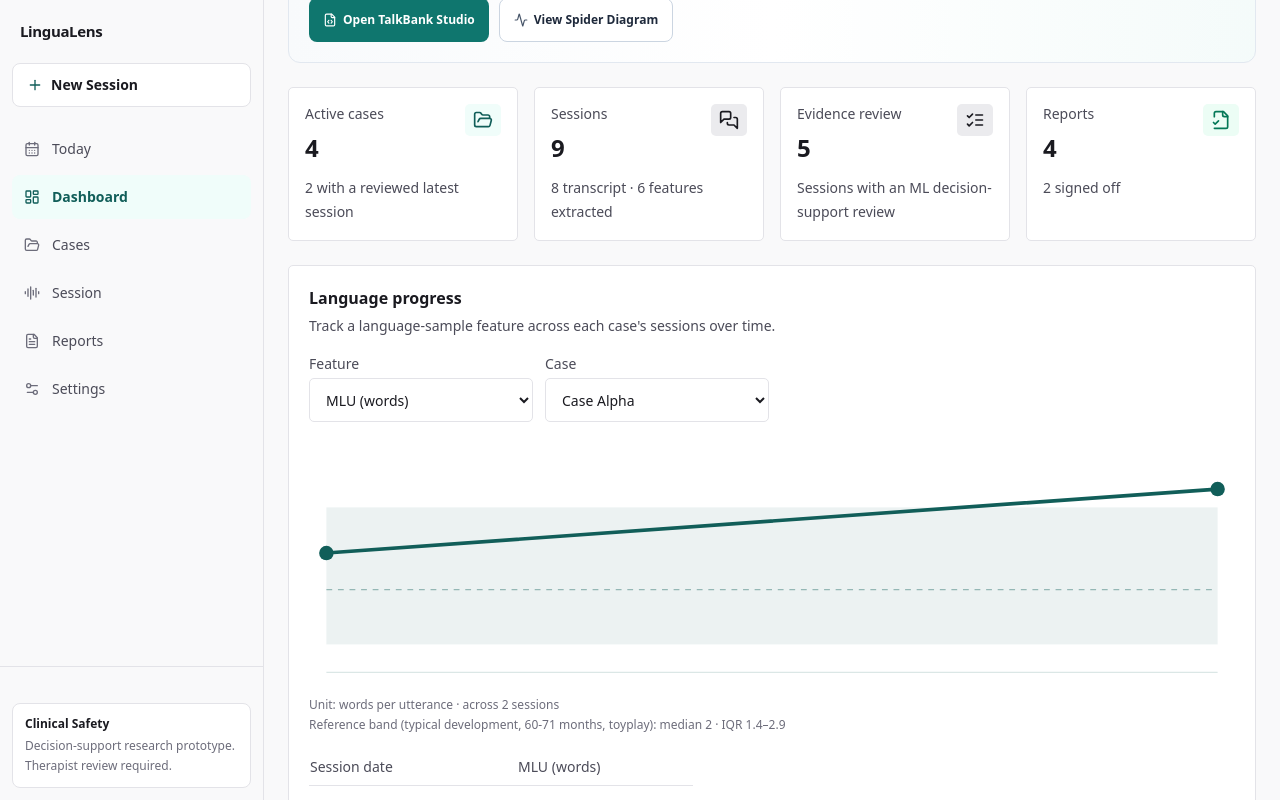
Test: practice dashboard › plots session-level feature trends with case and feature selection
This screenshot has width=1280, height=800.
(page scrolled)
# Switching the feature re-plots the values for the same case.
Select "NDW (different words)" in the dropdown labelled "Feature". click: (421, 400)
box: top-left (309, 378), bottom-right (533, 422)
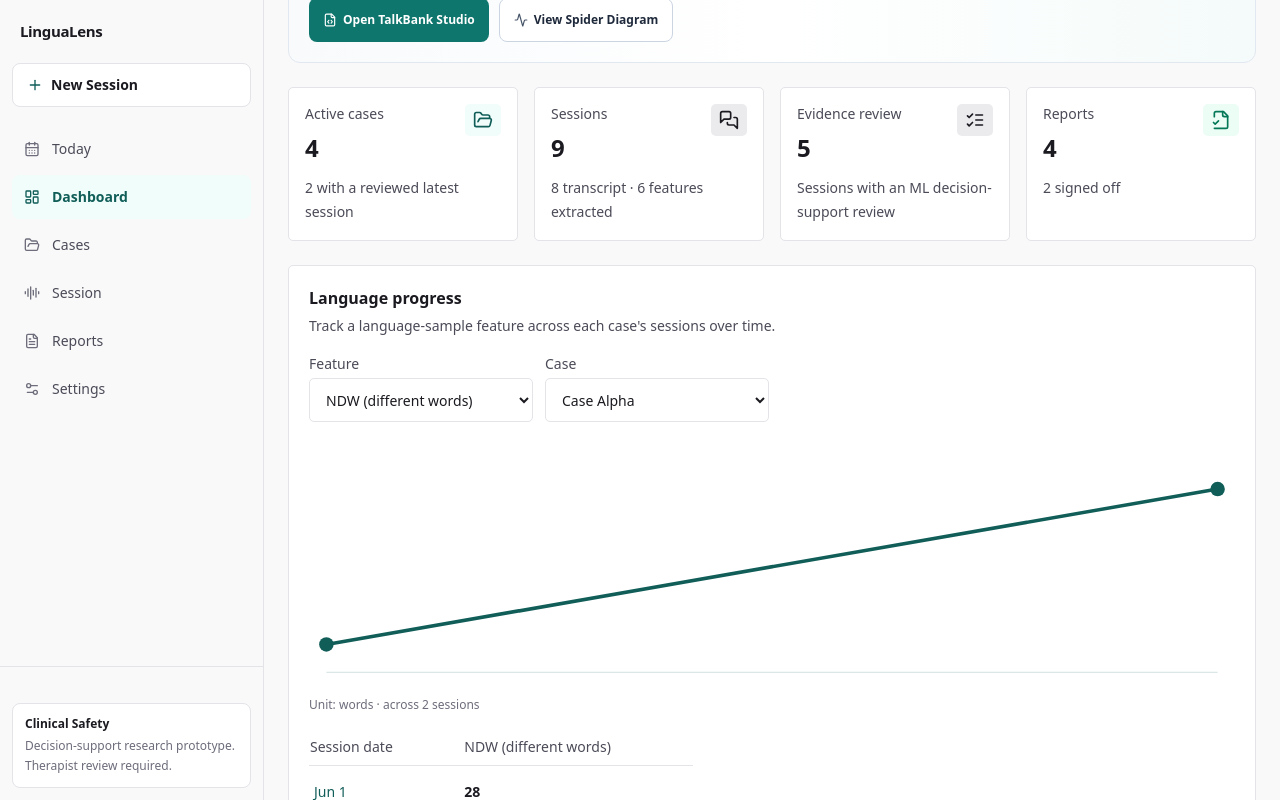
Expected: the text "28" is shown, top-left (463, 766), bottom-right (693, 799)
# Switching the case shows its series (a single point keeps the hint).
Select "MLU (words)" in the dropdown labelled "Feature". click: (421, 400)
box: top-left (309, 378), bottom-right (533, 422)
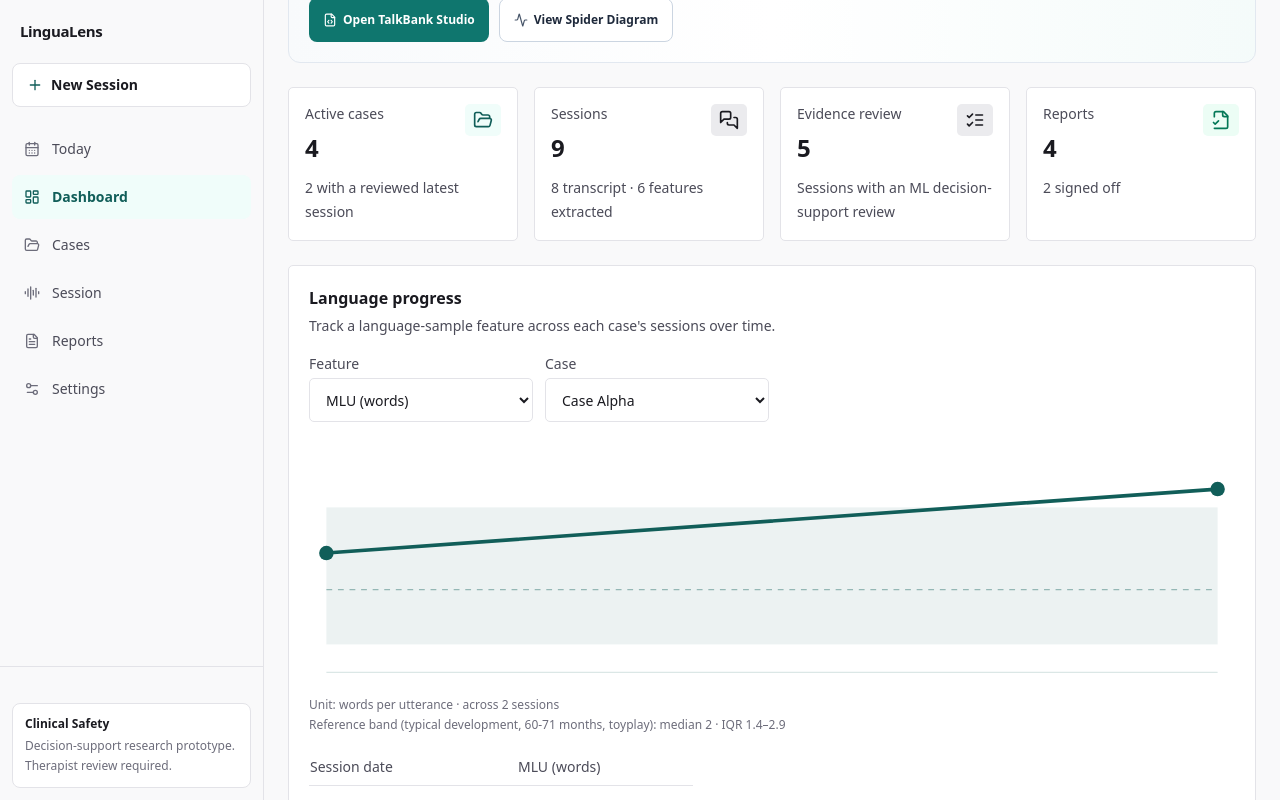
Select "Case Beta" in the dropdown labelled "Case". click: (657, 400)
box: top-left (545, 378), bottom-right (769, 422)
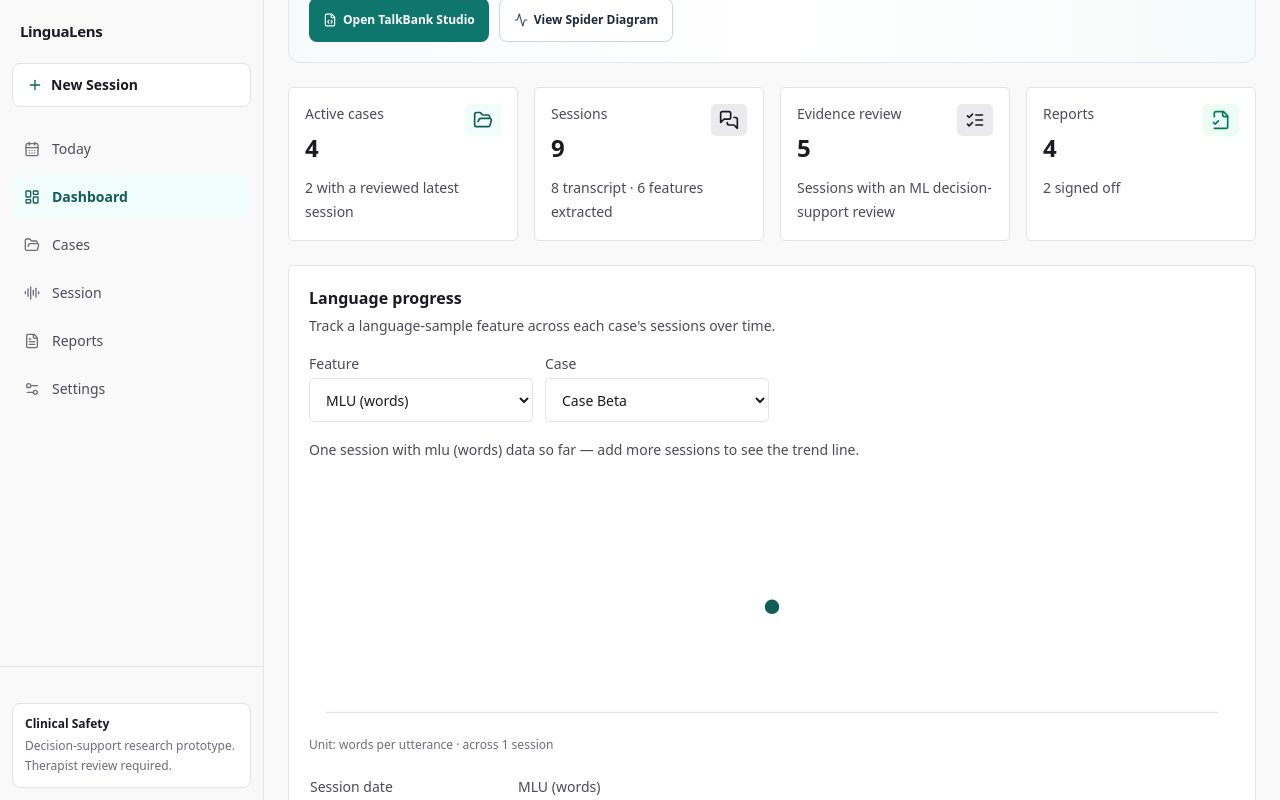
Expected: the text "One session with mlu (words) data so far" is shown, top-left (309, 440), bottom-right (859, 459)
